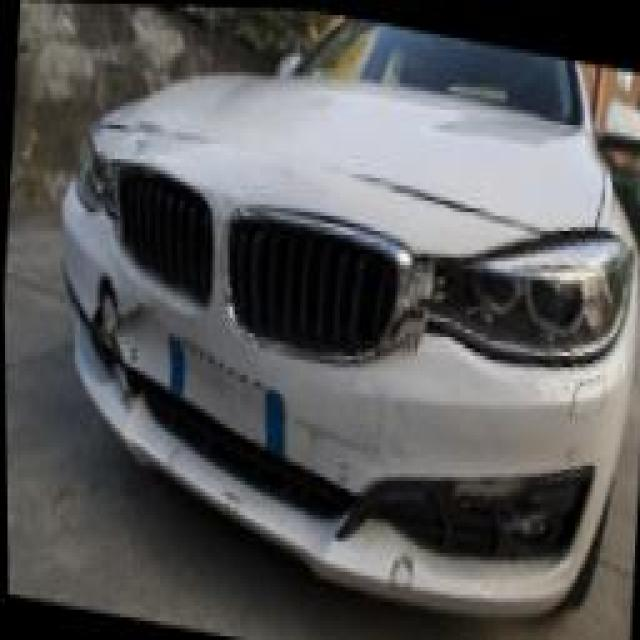Bumper: (68, 203, 162, 453)
